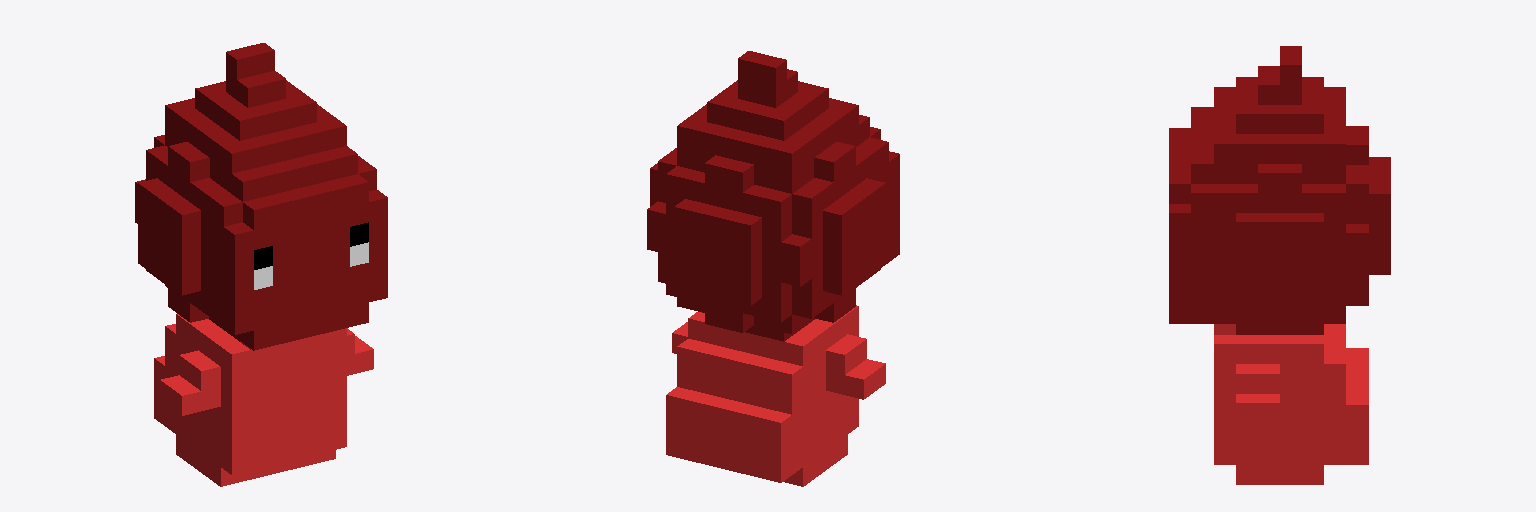
The picture shows the model from 3 angles: view 1: azimuth 30°, elevation 25°; view 2: azimuth 150°, elevation 25°; view 3: azimuth 270°, elevation 25°; orthographic projection.
Visible parts, largest first — view 1: object 1; view 2: object 1; view 3: object 1.
Part boxes in pixels (bbox=[...]): object 1: bbox=[135, 43, 387, 486]; object 1: bbox=[647, 51, 899, 486]; object 1: bbox=[1169, 46, 1390, 484].
Bounding box in the file's own units: 1 × 2 × 1.
1 materials, 1 textured.